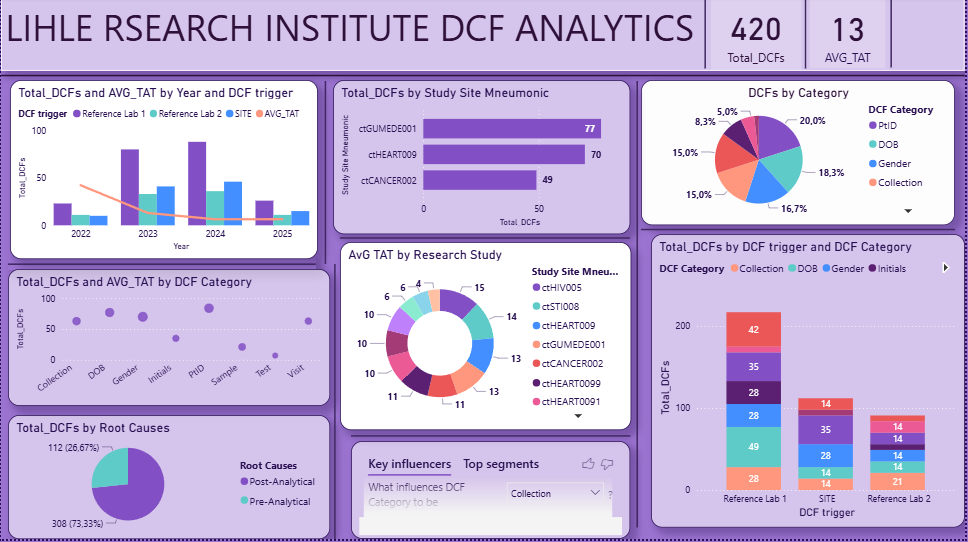

The page's visual inventory and layout, read from the dashboard file:
{"tool":"powerbi","page":{"name":"Page 1","canvas":[1280,720],"ordinal":0},"visuals":[{"type":"textbox","box":[0,0,1280.2,97.9],"z":0},{"type":"card","fields":{"Values":["DCFMeasures.Total_DCFs"]},"box":[942.8,0,119.7,97.7],"z":1000},{"type":"card","fields":{"Values":["DCFMeasures.AVG_TAT"]},"box":[1074.9,2.8,100.5,92.2],"z":2000},{"type":"pieChart","title":"DCFs by Category","fields":{"Y":["DCFMeasures.Total_DCFs"],"Category":["DCF_Tracker.DCF Category"]},"box":[850.6,110.1,417,192.7],"z":3000},{"type":"shape","box":[0,97.7,1280,12.4],"z":4000},{"type":"shape","box":[9.6,348.2,408.8,13.8],"z":5000},{"type":"shape","box":[1062.5,4.1,12.4,90.8],"z":6000},{"type":"shape","box":[929,4.1,13.8,90.8],"z":7000},{"type":"lineClusteredColumnComboChart","fields":{"Y":["DCFMeasures.Total_DCFs"],"Y2":["DCFMeasures.AVG_TAT"],"Category":["DCF_Tracker.DCF date.Variation.Date Hierarchy.Year"],"Series":["DCF_Tracker.DCF trigger"]},"box":[12.4,110.1,408.8,238.1],"z":8000},{"type":"barChart","fields":{"Category":["DCF_Tracker.Study Site Mneumonic"],"Y":["DCFMeasures.Total_DCFs"]},"box":[440.4,110.1,395,205.1],"z":9000},{"type":"scatterChart","fields":{"X":["DCF_Tracker.DCF Category"],"Y":["DCFMeasures.Total_DCFs"],"Size":["DCFMeasures.AVG_TAT"]},"box":[9.6,362,428,181.7],"z":10000},{"type":"columnChart","fields":{"Category":["DCF_Tracker.DCF trigger"],"Y":["DCFMeasures.Total_DCFs"],"Series":["DCF_Tracker.DCF Category"]},"box":[863,315.2,417,389.5],"z":11000},{"type":"shape","box":[836.8,111.5,16.5,593.2],"z":12000},{"type":"shape","box":[850.6,302.8,417,12.4],"z":13000},{"type":"shape","box":[1175.4,2.8,13.8,90.8],"z":14000},{"type":"keyDriversVisual","fields":{"ExplainBy":["DCFMeasures.Total_DCFs","DCFMeasures.AVG_TAT","Sum(DCF_Tracker.TAT_Days)","DCF_Tracker.Study Site Mneumonic"],"Target":["DCF_Tracker.DCF Category"]},"box":[464.9,589.8,370.6,130.2],"z":16000},{"type":"donutChart","title":"AvG TAT by Research Study","fields":{"Category":["DCF_Tracker.Study Site Mneumonic"],"Y":["DCFMeasures.AVG_TAT"]},"box":[450.1,324.8,386.8,250.5],"z":17000},{"type":"pieChart","fields":{"Category":["DCF_Tracker.Root Causes"],"Y":["DCFMeasures.Total_DCFs"]},"box":[9.3,555.3,427.7,164.7],"z":17001},{"type":"shape","box":[437,354.7,13.3,365.3],"z":17002},{"type":"shape","box":[418.5,111.6,25.2,243.1],"z":17003},{"type":"shape","box":[450.3,314.8,385.2,10.6],"z":17004},{"type":"shape","box":[464.9,576.5,370.6,13.3],"z":17005}]}

Visuals, with their boxes in screenshot pixels (x1, y1, x2, y2), scaled from the page's 1280x720 canvas onto the 968x542 screenshot:
textbox: (x1=0, y1=0, x2=967, y2=74)
card - DCFMeasures.Total_DCFs: (x1=713, y1=0, x2=804, y2=74)
card - DCFMeasures.AVG_TAT: (x1=813, y1=2, x2=889, y2=72)
"DCFs by Category" pieChart: (x1=643, y1=83, x2=959, y2=228)
shape: (x1=0, y1=74, x2=967, y2=83)
shape: (x1=7, y1=262, x2=316, y2=273)
shape: (x1=804, y1=3, x2=813, y2=71)
shape: (x1=703, y1=3, x2=713, y2=71)
lineClusteredColumnComboChart - DCFMeasures.Total_DCFs x DCFMeasures.AVG_TAT: (x1=9, y1=83, x2=319, y2=262)
barChart - DCF_Tracker.Study Site Mneumonic x DCFMeasures.Total_DCFs: (x1=333, y1=83, x2=632, y2=237)
scatterChart - DCF_Tracker.DCF Category x DCFMeasures.Total_DCFs: (x1=7, y1=273, x2=331, y2=409)
columnChart - DCF_Tracker.DCF trigger x DCFMeasures.Total_DCFs: (x1=653, y1=237, x2=967, y2=530)
shape: (x1=633, y1=84, x2=645, y2=530)
shape: (x1=643, y1=228, x2=959, y2=237)
shape: (x1=889, y1=2, x2=899, y2=70)
keyDriversVisual - DCFMeasures.Total_DCFs x DCFMeasures.AVG_TAT: (x1=352, y1=444, x2=632, y2=541)
"AvG TAT by Research Study" donutChart: (x1=340, y1=245, x2=633, y2=433)
pieChart - DCF_Tracker.Root Causes x DCFMeasures.Total_DCFs: (x1=7, y1=418, x2=330, y2=541)
shape: (x1=330, y1=267, x2=341, y2=541)
shape: (x1=316, y1=84, x2=336, y2=267)
shape: (x1=341, y1=237, x2=632, y2=245)
shape: (x1=352, y1=434, x2=632, y2=444)
